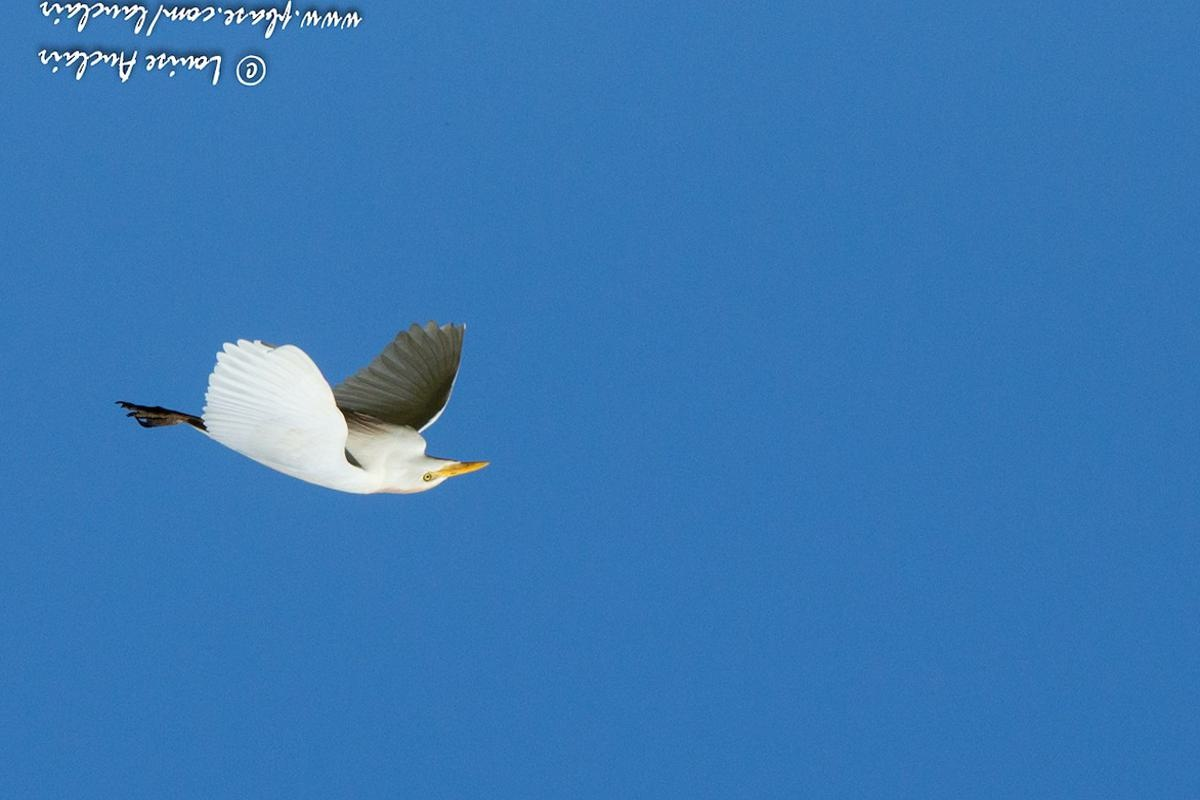egret: (142, 295, 506, 500)
